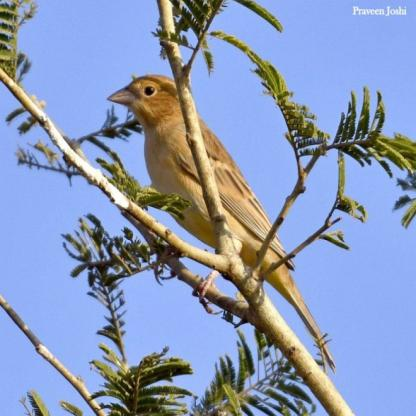Burung: (105, 73, 336, 368)
